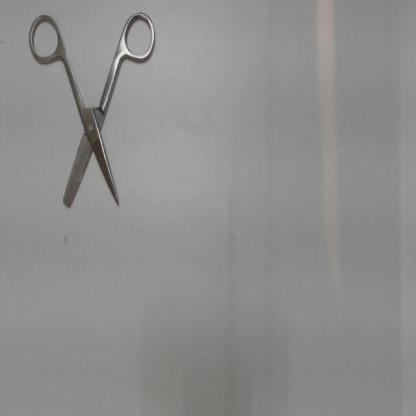Dressing Scissors: (20, 1, 163, 224)
